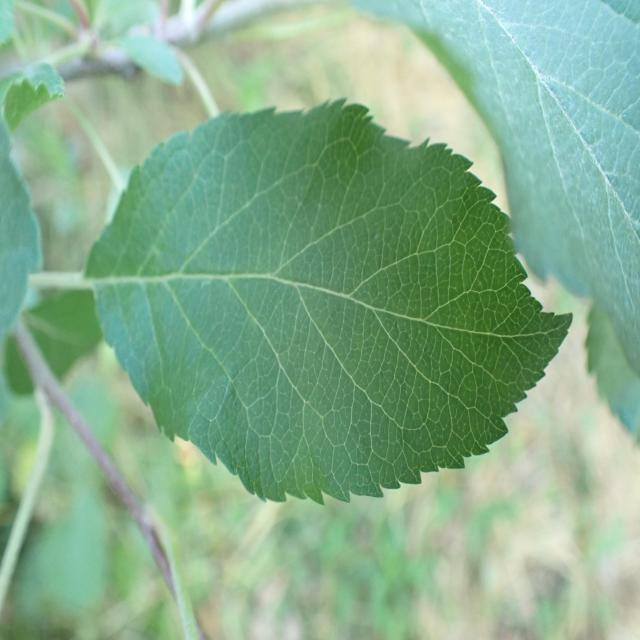healthy: (82, 97, 574, 506), (410, 0, 640, 378), (0, 109, 43, 335)
